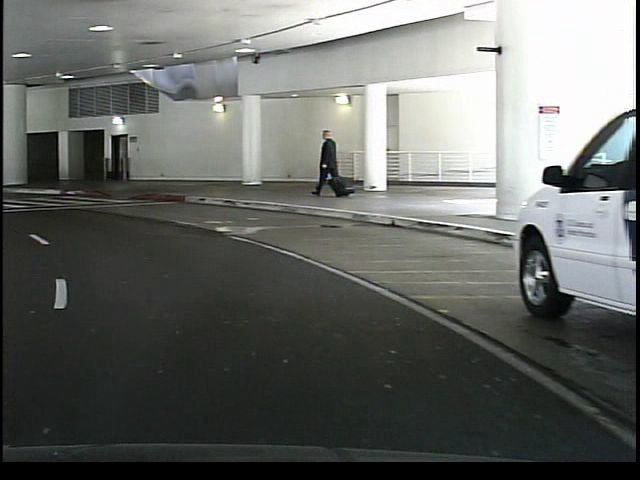person: (305, 126, 345, 204)
